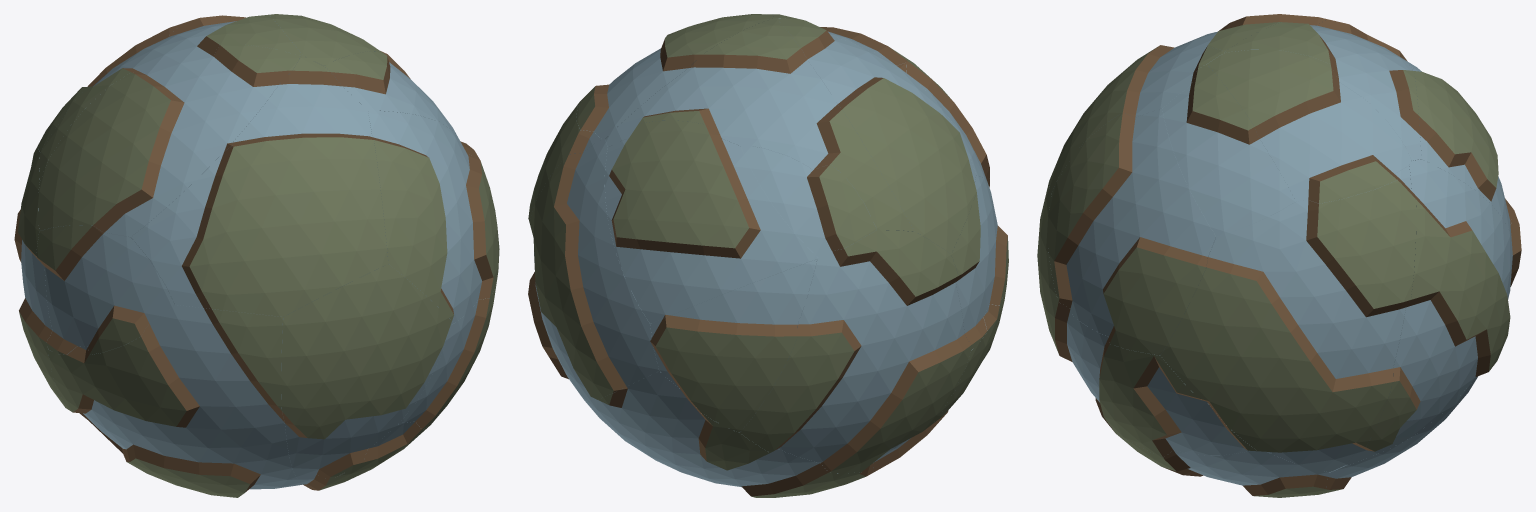
The model's file is world-pieces.fbx.
The picture shows the model from 3 angles, left to right: view 1: azimuth 30°, elevation 25°; view 2: azimuth 150°, elevation 25°; view 3: azimuth 270°, elevation 25°; orthographic projection.
Visible parts, largest first — view 1: Icosphere.003_cell.024, Icosphere.003_cell.019, Icosphere.003_cell.012, Icosphere.003_cell.003, Icosphere.003_cell.001, Icosphere.003_cell.025, Icosphere.003_cell.006, Icosphere.003_cell.013, Icosphere.003_cell.020, Icosphere.003_cell.004, Icosphere.003_cell.021, Icosphere.003_cell.018 (+2 smaller); view 2: Icosphere.003_cell.013, Icosphere.003_cell.007, Icosphere.003_cell.006, Icosphere.003_cell.005, Icosphere.003_cell.012, Icosphere.003_cell.017, Icosphere.003_cell, Icosphere.003_cell.014, Icosphere.003_cell.021, Icosphere.003_cell.025, Icosphere.003_cell.024, Icosphere.003_cell.019 (+1 smaller); view 3: Icosphere.003_cell.010, Icosphere.003_cell.001, Icosphere.003_cell.005, Icosphere.003_cell.021, Icosphere.003_cell.020, Icosphere.003_cell.004, Icosphere.003_cell.006, Icosphere.003_cell.007, Icosphere.003_cell.024, Icosphere.003_cell.018, Icosphere.003_cell.003, Icosphere.003_cell.012 (+2 smaller).
Part boxes in pixels (bbox=[...]): Icosphere.003_cell.024: bbox=[130, 56, 388, 316]; Icosphere.003_cell.019: bbox=[48, 305, 297, 497]; Icosphere.003_cell.012: bbox=[38, 44, 300, 237]; Icosphere.003_cell.003: bbox=[281, 264, 451, 479]; Icosphere.003_cell.001: bbox=[368, 110, 499, 324]; Icosphere.003_cell.025: bbox=[36, 225, 174, 354]; Icosphere.003_cell.006: bbox=[39, 14, 302, 180]; Icosphere.003_cell.013: bbox=[14, 146, 87, 418]; Icosphere.003_cell.020: bbox=[324, 51, 456, 134]; Icosphere.003_cell.004: bbox=[401, 274, 497, 429]; Icosphere.003_cell.021: bbox=[269, 14, 400, 69]; Icosphere.003_cell.018: bbox=[258, 421, 427, 490]; Icosphere.003_cell.013: bbox=[739, 230, 971, 473]; Icosphere.003_cell.007: bbox=[604, 120, 817, 323]; Icosphere.003_cell.006: bbox=[605, 18, 914, 231]; Icosphere.003_cell.005: bbox=[528, 139, 659, 401]; Icosphere.003_cell.012: bbox=[776, 18, 976, 253]; Icosphere.003_cell.017: bbox=[650, 259, 817, 432]; Icosphere.003_cell: bbox=[585, 371, 875, 497]; Icosphere.003_cell.014: bbox=[741, 146, 876, 257]; Icosphere.003_cell.021: bbox=[576, 14, 773, 139]; Icosphere.003_cell.025: bbox=[951, 175, 1008, 349]; Icosphere.003_cell.024: bbox=[772, 14, 989, 187]; Icosphere.003_cell.019: bbox=[873, 178, 1008, 471]; Icosphere.003_cell.010: bbox=[1160, 165, 1416, 471]; Icosphere.003_cell.001: bbox=[1048, 108, 1215, 355]; Icosphere.003_cell.005: bbox=[1346, 159, 1513, 464]; Icosphere.003_cell.021: bbox=[1207, 50, 1411, 203]; Icosphere.003_cell.020: bbox=[1162, 64, 1295, 236]; Icosphere.003_cell.004: bbox=[1072, 317, 1256, 457]; Icosphere.003_cell.006: bbox=[1225, 19, 1421, 160]; Icosphere.003_cell.007: bbox=[1412, 68, 1511, 238]; Icosphere.003_cell.024: bbox=[1049, 45, 1225, 193]; Icosphere.003_cell.018: bbox=[1093, 395, 1329, 497]; Icosphere.003_cell.003: bbox=[1037, 181, 1099, 406]; Icosphere.003_cell.012: bbox=[1164, 14, 1326, 50].
Bounding box in the file's own units: 1030 × 1033 × 1039.
